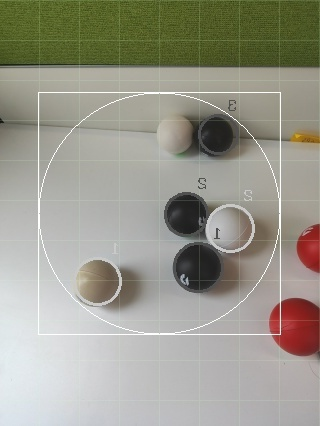Pelota blanca: (205, 201, 257, 254), (74, 257, 124, 307), (157, 113, 196, 155)
Pelota negra: (173, 241, 225, 294), (165, 190, 209, 238), (197, 113, 241, 158)
Pelota roja: (268, 297, 320, 357), (295, 222, 320, 275)
